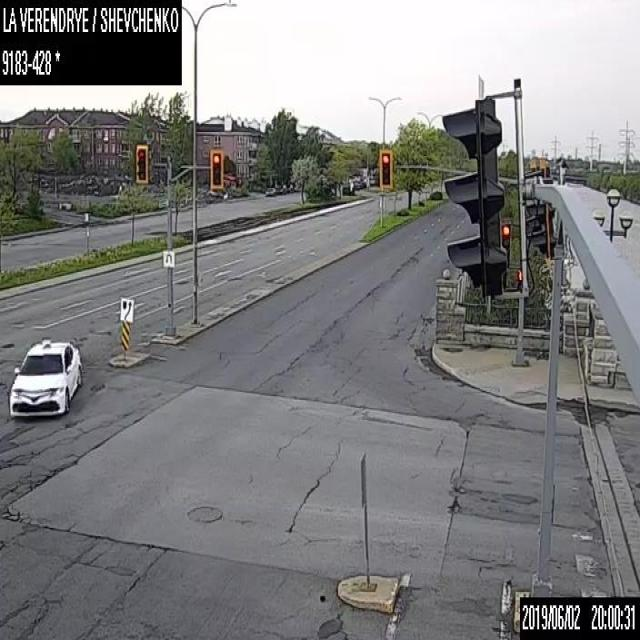vehicle: (7, 338, 82, 414), (351, 176, 366, 188), (265, 186, 276, 196), (276, 183, 285, 194), (285, 182, 293, 192)
